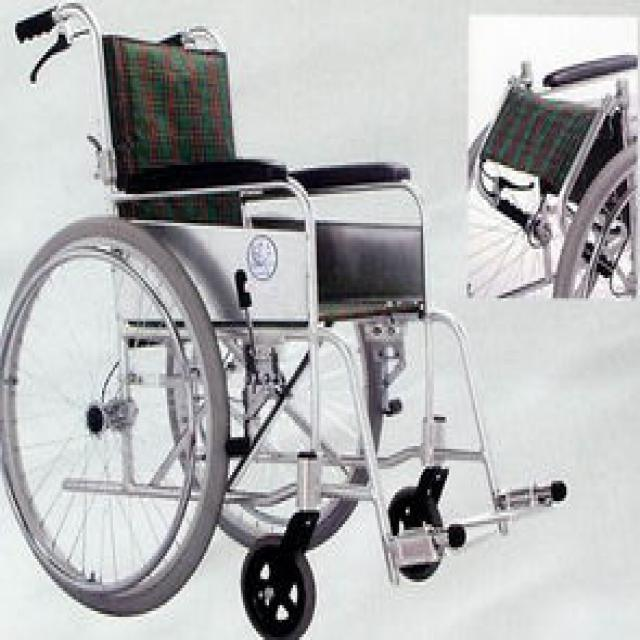wheelchair: (0, 3, 571, 637)
